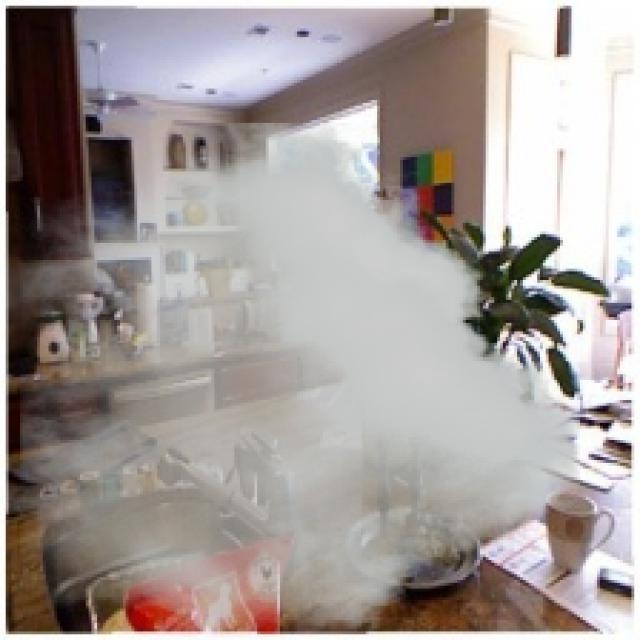smoke: (20, 123, 580, 637)
